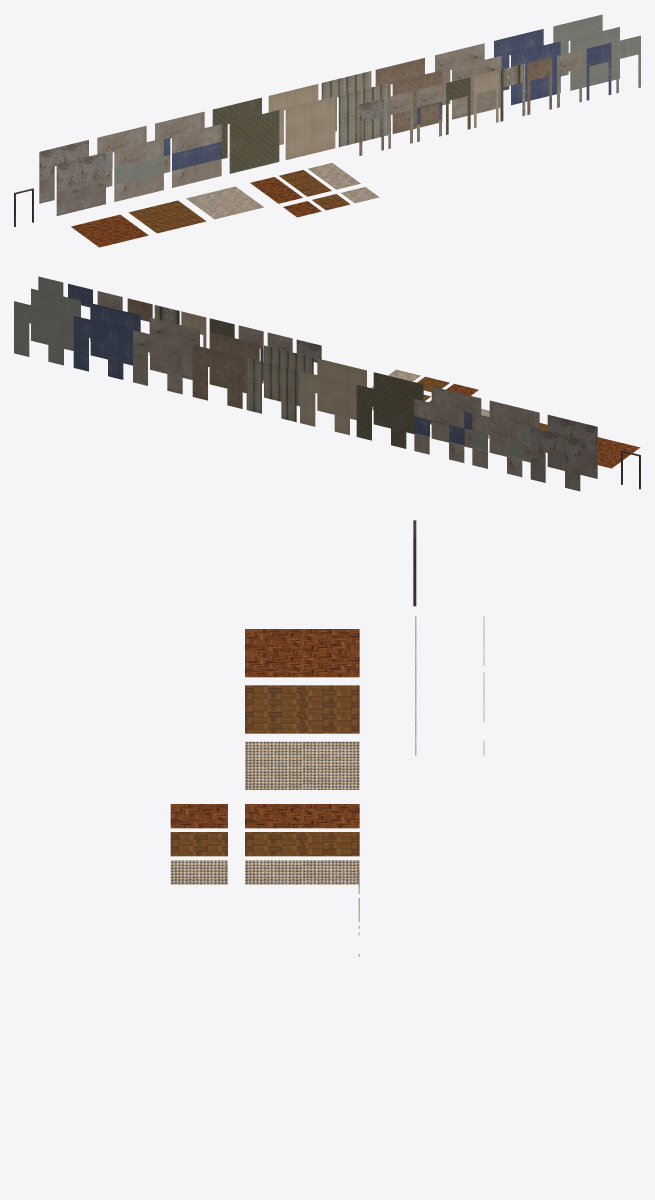
The model's file is Architecture.fbx.
3 views of the same model, one above another, from view 1: azimuth 30°, elevation 25°; view 2: azimuth 150°, elevation 25°; view 3: azimuth 270°, elevation 25° (orthographic). The views are drawn at different scales.
Visible parts, largest first — view 1: Wall 6, Wall 3, Wall 4-2, Wall 5-2, Wall 1, Wall 7, Wall 4, Wall 2, Wall 8, Wall 5, Floor 1, Floor 3 (+27 smaller); view 2: Wall 7 Gate.001, Wall 3 Gate.001, Wall 4-2 Gate.001, Wall 5 Gate.001, Wall 8 Gate.001, Wall 1 Gate.001, Wall 5-2 Gate.002, Wall 6 Gate.001, Wall 4 Gate.001, Wall 2 Gate.001, Wall 1, Wall 2 (+19 smaller); view 3: Floor 1, Floor 2, Floor 3, Floor 1.001, Floor 2.001, Floor 3.001, Floor 3.002, Floor 1.002, Floor 2.002.
Part boxes in pixels (x1,y1,x2,y2): Wall 6: [285, 96, 335, 159]; Wall 3: [229, 110, 279, 173]; Wall 4-2: [114, 138, 163, 201]; Wall 5-2: [172, 124, 221, 187]; Wall 1: [56, 152, 105, 215]; Wall 7: [338, 83, 388, 147]; Wall 4: [570, 27, 619, 90]; Wall 2: [452, 56, 501, 119]; Wall 8: [392, 70, 442, 133]; Wall 5: [511, 41, 560, 105]; Floor 1: [128, 200, 206, 233]; Floor 3: [186, 186, 263, 219]; Wall 7 Gate.001: [246, 358, 296, 422]; Wall 3 Gate.001: [356, 385, 406, 448]; Wall 4-2 Gate.001: [472, 413, 522, 477]; Wall 5 Gate.001: [73, 316, 123, 379]; Wall 8 Gate.001: [192, 345, 242, 408]; Wall 1 Gate.001: [530, 427, 580, 491]; Wall 5-2 Gate.002: [414, 399, 464, 462]; Wall 6 Gate.001: [300, 371, 349, 435]; Wall 4 Gate.001: [14, 301, 63, 365]; Wall 2 Gate.001: [133, 330, 182, 394]; Wall 1: [547, 414, 597, 478]; Wall 2: [150, 317, 199, 379]; Floor 1: [245, 685, 359, 733]; Floor 2: [245, 629, 359, 677]; Floor 3: [245, 741, 359, 789]; Floor 1.001: [245, 832, 359, 856]; Floor 2.001: [245, 804, 359, 828]; Floor 3.001: [245, 860, 359, 884]; Floor 3.002: [170, 860, 227, 884]; Floor 1.002: [170, 832, 227, 856]; Floor 2.002: [170, 804, 227, 828].
Size of the model in its own units: 7410 by 600 by 1643.
